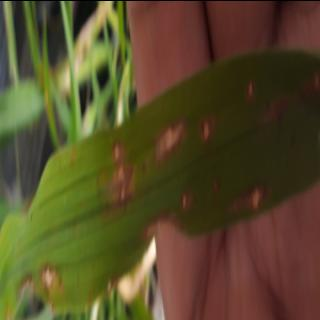Blast: (141, 108, 188, 180), (105, 131, 129, 209), (36, 252, 74, 300), (226, 182, 282, 214), (198, 108, 220, 143), (177, 188, 200, 214)
